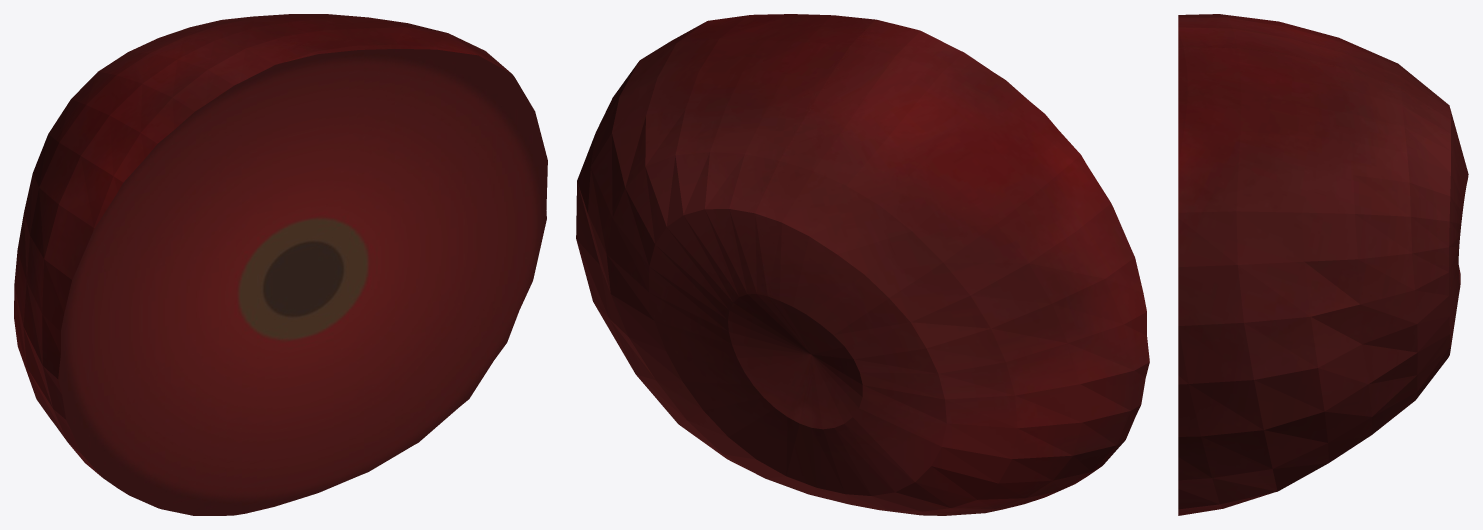
File: cherry_left.obj
The picture shows the model from 3 angles, left to right: view 1: azimuth 30°, elevation 25°; view 2: azimuth 150°, elevation 25°; view 3: azimuth 270°, elevation 25°; orthographic projection. The views are drawn at different scales.
Parts seen in each view (by area): view 1: fruit_half; view 2: fruit_half; view 3: fruit_half.
Part boxes in pixels (bbox=[...]): fruit_half: bbox=[14, 14, 547, 515]; fruit_half: bbox=[576, 14, 1149, 515]; fruit_half: bbox=[1178, 14, 1468, 515].
Size of the model in its own units: 5.19 by 4.44 by 2.61.
